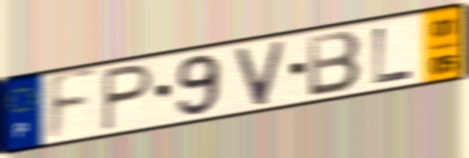9: (175, 52, 225, 119)
B: (306, 29, 363, 100)
F: (45, 65, 100, 147)
L: (371, 24, 416, 87)
P: (99, 62, 156, 134)
V: (232, 38, 288, 109)
